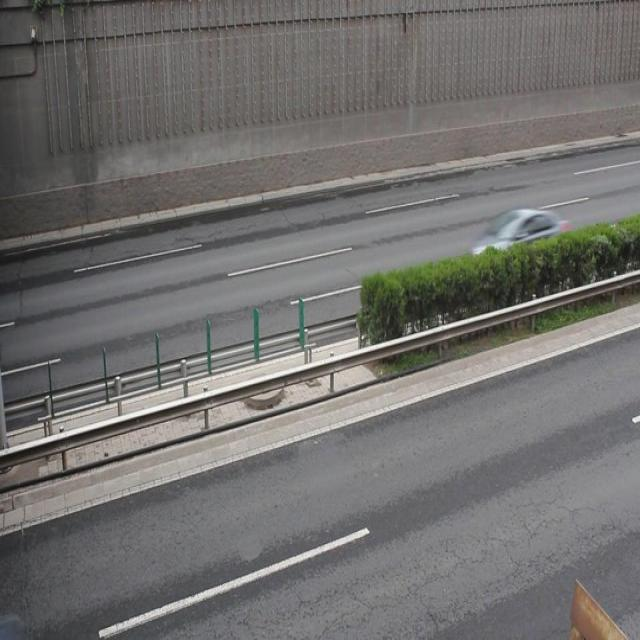car: (472, 208, 568, 283)
